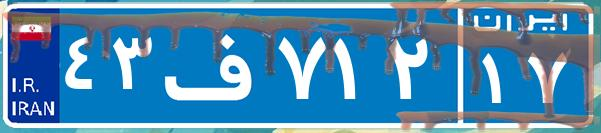1: (330, 28, 385, 110), (475, 38, 525, 113)
2: (385, 28, 445, 110)
3: (110, 28, 158, 105)
4: (57, 26, 110, 107)
7: (273, 28, 330, 110), (525, 38, 570, 115)
ف: (158, 15, 273, 115)
